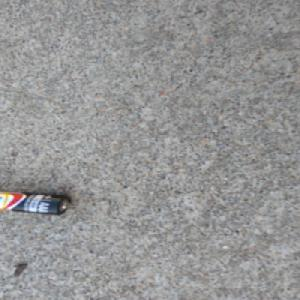Battery: (0, 191, 73, 216)
